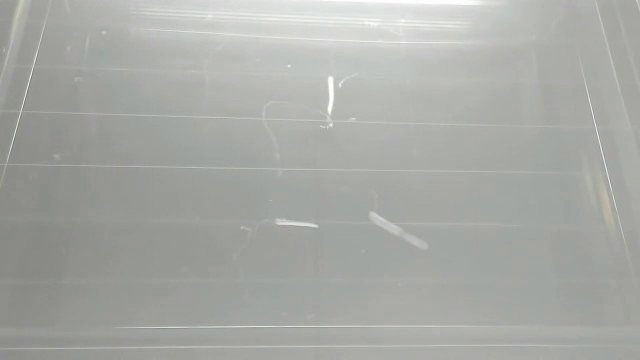alpha: (363, 206, 440, 256), (273, 215, 325, 234), (321, 71, 340, 118)
